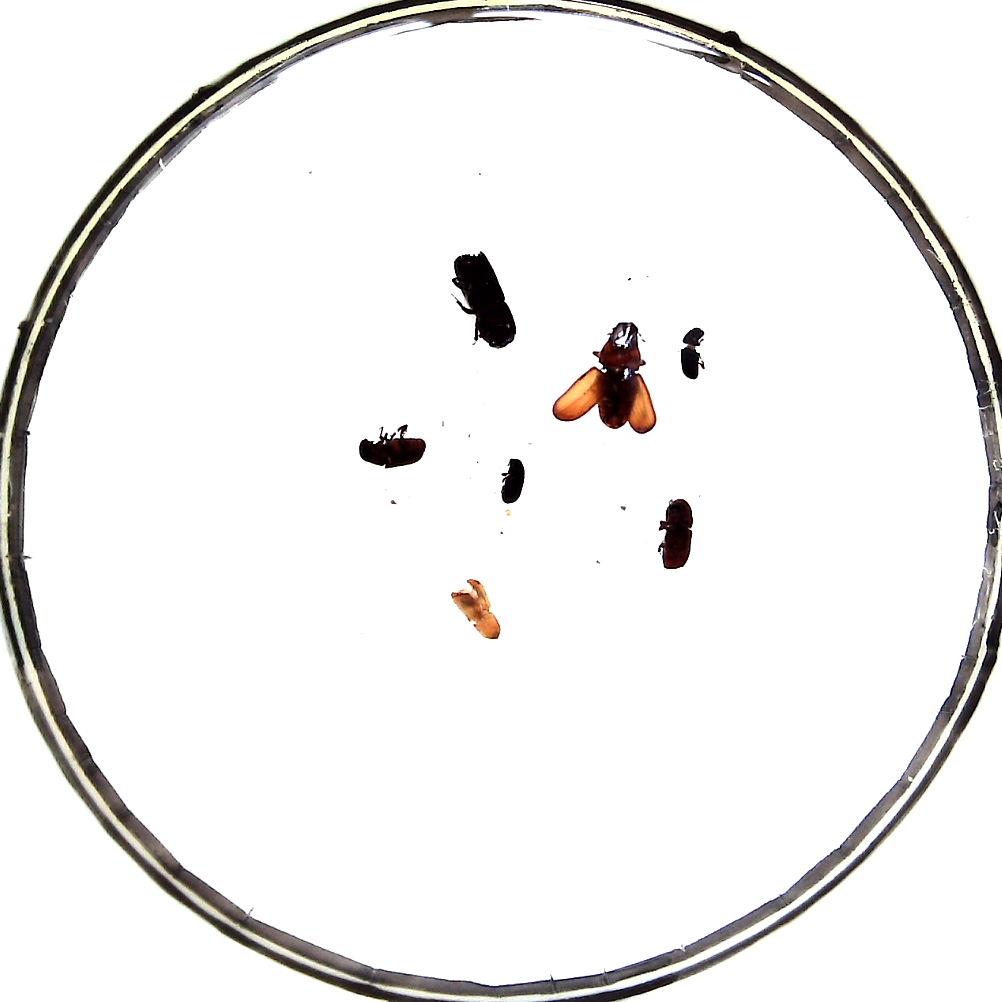Boerner: (454, 251, 516, 348)
Leconte: (595, 322, 643, 428)
acuminatus: (681, 328, 704, 380), (501, 458, 525, 504)
armandi: (359, 437, 427, 468)
coleoptera: (450, 579, 501, 640)
linnaeus: (662, 499, 692, 569)
